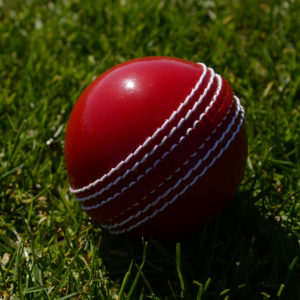red ball: (62, 56, 252, 246)
